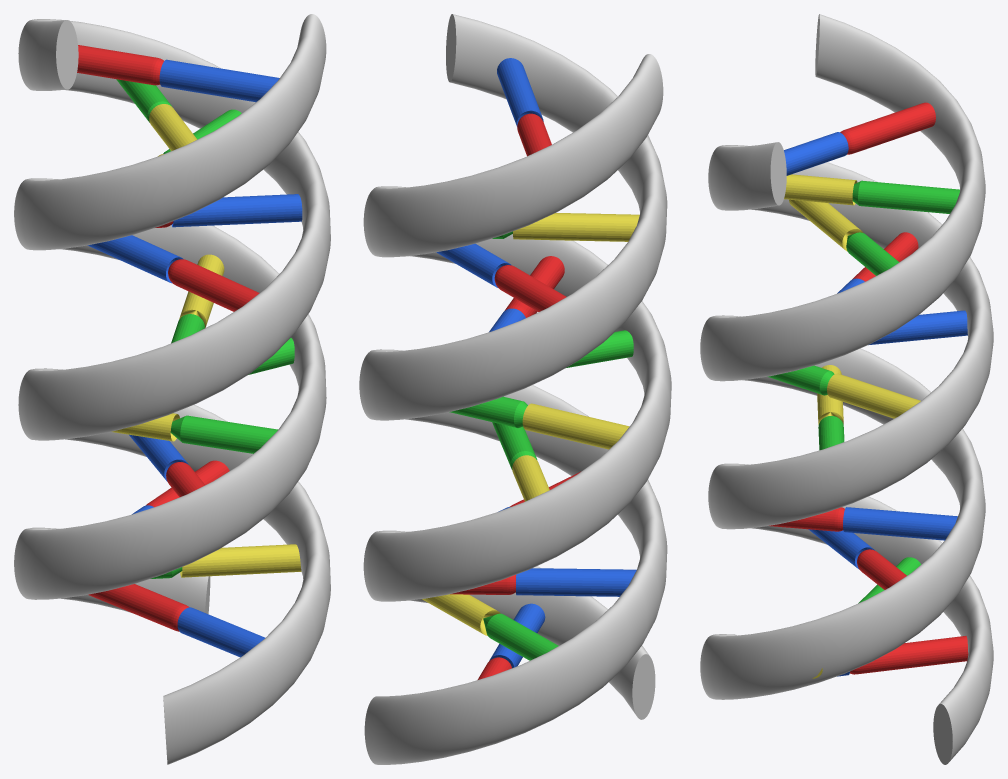
The model's file is dna-5.gltf.
The picture shows the model from 3 angles, left to right: view 1: azimuth 30°, elevation 25°; view 2: azimuth 150°, elevation 25°; view 3: azimuth 270°, elevation 25°; orthographic projection. The views are drawn at different scales.
Parts seen in each view (by area): view 1: Phosphate Backbone, Thymine (T), Thymine (T).001, Cytosine (C).005, Guanine (G).004, Adenine (A), Adenine (A).002, Thymine (T).005, Adenine (A).005, Thymine (T).002, Cytosine (C), Thymine (T).003 (+7 smaller); view 2: Phosphate Backbone, Thymine (T).004, Cytosine (C).001, Cytosine (C).003, Guanine (G).005, Adenine (A).001, Thymine (T), Cytosine (C).005, Thymine (T).001, Guanine (G).003, Cytosine (C).004, Guanine (G).002 (+5 smaller); view 3: Phosphate Backbone, Thymine (T).003, Guanine (G), Adenine (A).005, Adenine (A), Cytosine (C).002, Thymine (T).002, Cytosine (C), Thymine (T), Cytosine (C).001, Guanine (G).001, Adenine (A).004 (+6 smaller).
Boxes of the visible parts, x1,y1,x2,y2 form: Phosphate Backbone: (14,14,330,764); Thymine (T): (159,59,279,102); Thymine (T).001: (171,194,302,227); Cytosine (C).005: (180,544,301,577); Guanine (G).004: (170,415,277,453); Adenine (A): (77,45,163,85); Adenine (A).002: (168,259,259,311); Thymine (T).005: (177,607,265,657); Adenine (A).005: (88,584,189,631); Thymine (T).002: (87,235,183,283); Cytosine (C): (149,104,197,150); Thymine (T).003: (129,434,188,481); Phosphate Backbone: (359,14,671,764); Thymine (T).004: (516,568,636,596); Cytosine (C).001: (513,213,639,241); Cytosine (C).003: (522,403,629,449); Guanine (G).005: (483,613,558,660); Adenine (A).001: (494,265,566,311); Thymine (T): (497,58,543,126); Cytosine (C).005: (422,594,500,635); Thymine (T).001: (436,243,511,287); Guanine (G).003: (449,396,527,427); Cytosine (C).004: (512,455,549,501); Guanine (G).002: (565,330,633,368); Phosphate Backbone: (700,14,993,764); Thymine (T).003: (843,507,957,540); Guanine (G): (852,180,959,213); Adenine (A).005: (850,636,968,674); Adenine (A): (840,102,935,154); Cytosine (C).002: (827,373,920,418); Thymine (T).002: (868,310,967,345); Cytosine (C): (784,174,857,205); Thymine (T): (784,132,848,175); Cytosine (C).001: (789,199,863,251); Guanine (G).001: (846,232,899,275); Adenine (A).004: (857,549,906,589).
Bounding box in the file's own units: 1.12 × 2.86 × 1.15.
